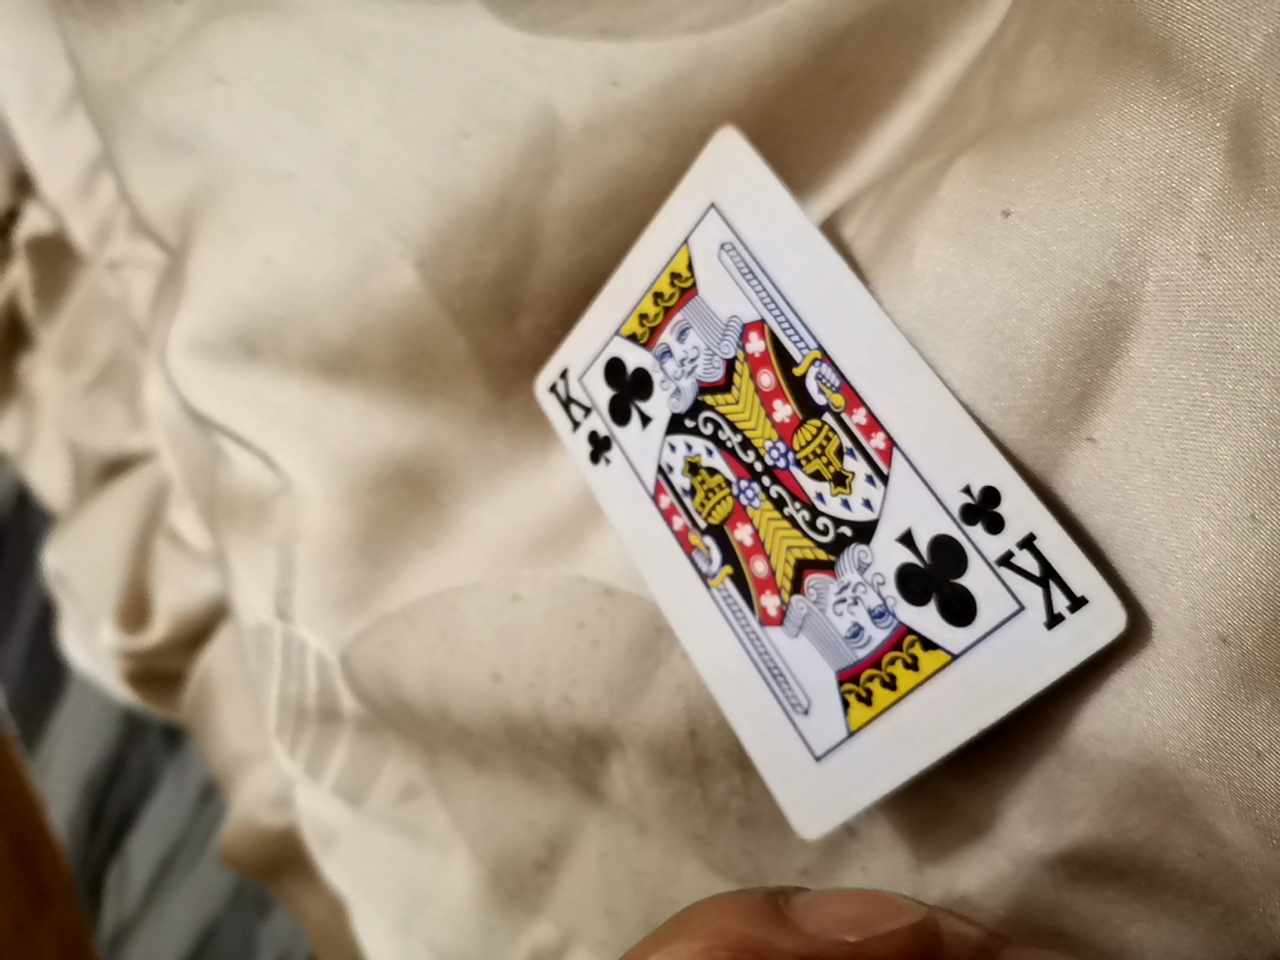mh k: (493, 118, 1111, 892)
